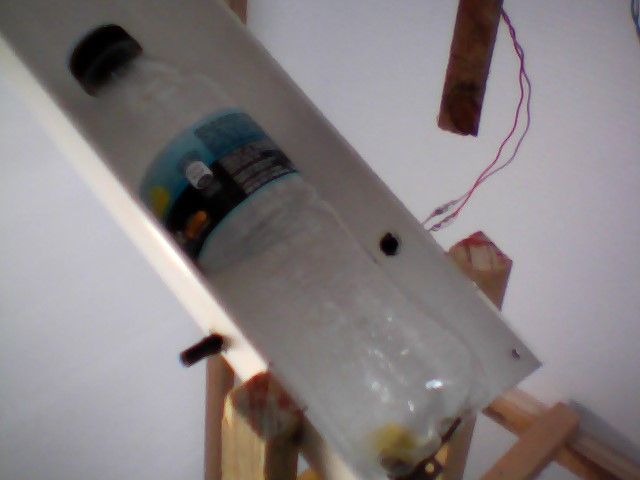plastico: (64, 15, 494, 480)
